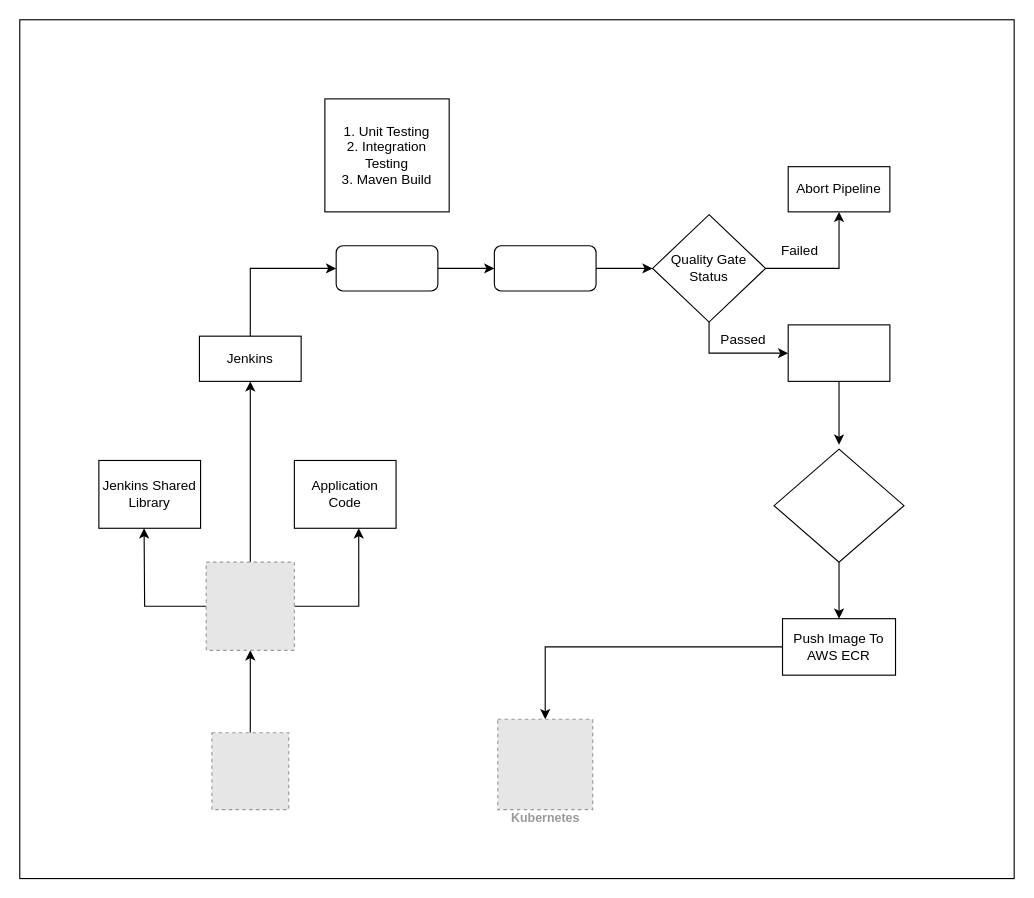
Image size: 1034x898. Some labels were removed from this diagram. Grey dashed boxes stand in for pictures. Here are the shapes that lost their labels. From the top down, the centre of each, then its label:
point (386, 268): Maven
point (544, 268): SonarQube
point (838, 352): Maven Build To Create Docker Image
point (838, 505): Docker Image Scanning
